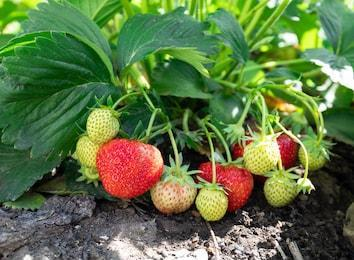Fresa: (92, 134, 171, 202), (194, 154, 257, 217)
